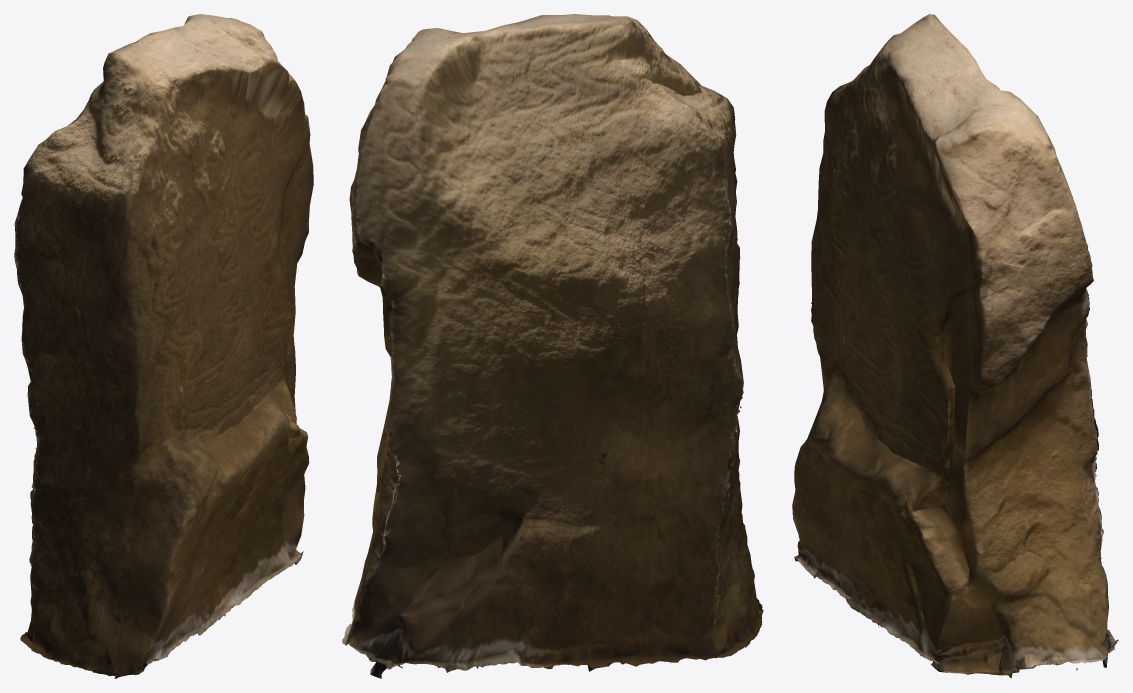
The model's file is patstone-2.fbx.
3 renders of one model, left to right at view 1: azimuth 30°, elevation 25°; view 2: azimuth 150°, elevation 25°; view 3: azimuth 270°, elevation 25°, orthographic. The views are drawn at different scales.
Parts seen in each view (by area): view 1: BCD-PatStone-base-textured; view 2: BCD-PatStone-base-textured; view 3: BCD-PatStone-base-textured.
Part boxes in pixels (bbox=[...]): BCD-PatStone-base-textured: bbox=[14, 14, 313, 678]; BCD-PatStone-base-textured: bbox=[342, 14, 763, 678]; BCD-PatStone-base-textured: bbox=[792, 14, 1118, 678].
Bounding box in the file's own units: 0.8419 × 1.44 × 0.7294.
